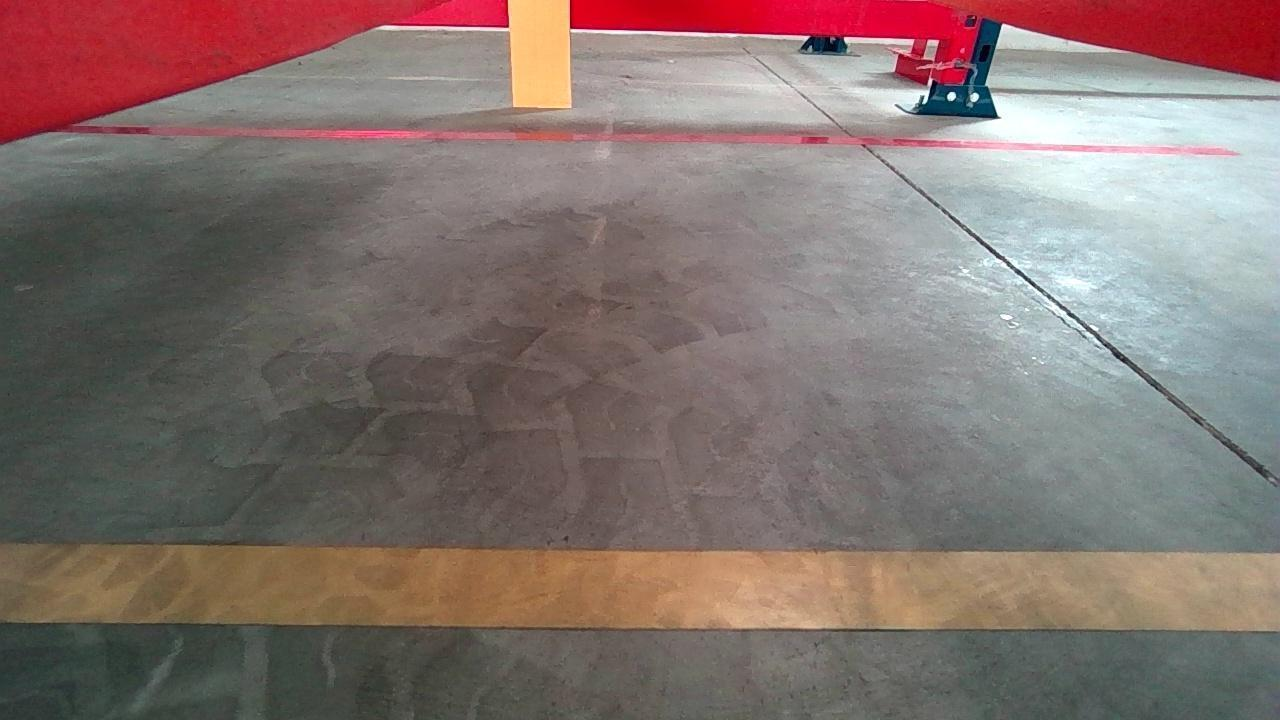red_line: (54, 124, 1240, 157)
yellow_line: (4, 539, 1279, 631)
